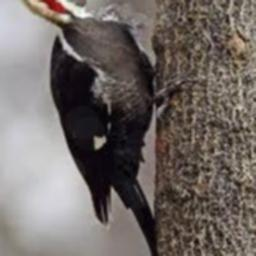Woodpecker: (2, 0, 197, 256)
